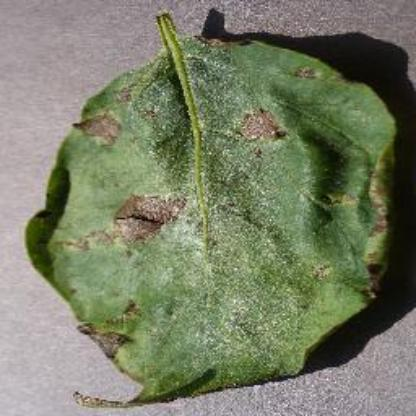Early-Blight: (23, 4, 416, 416)
